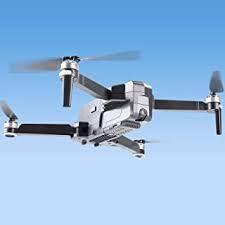drone: (0, 37, 225, 164)
